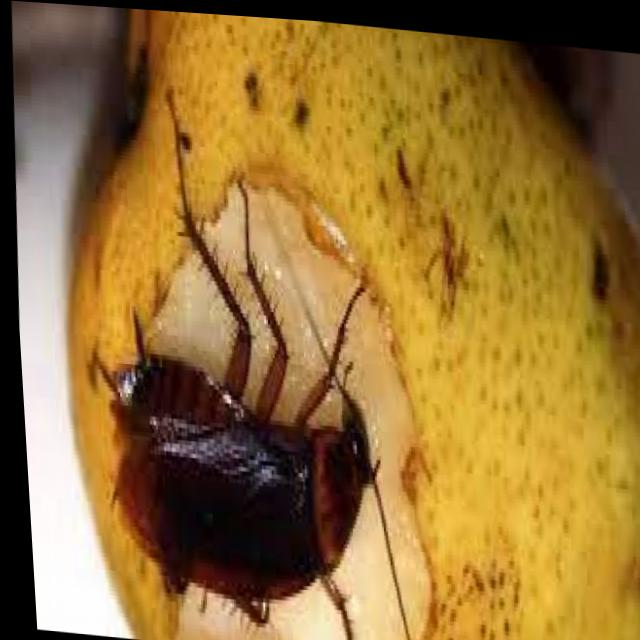Cockroach: (51, 51, 438, 640)
